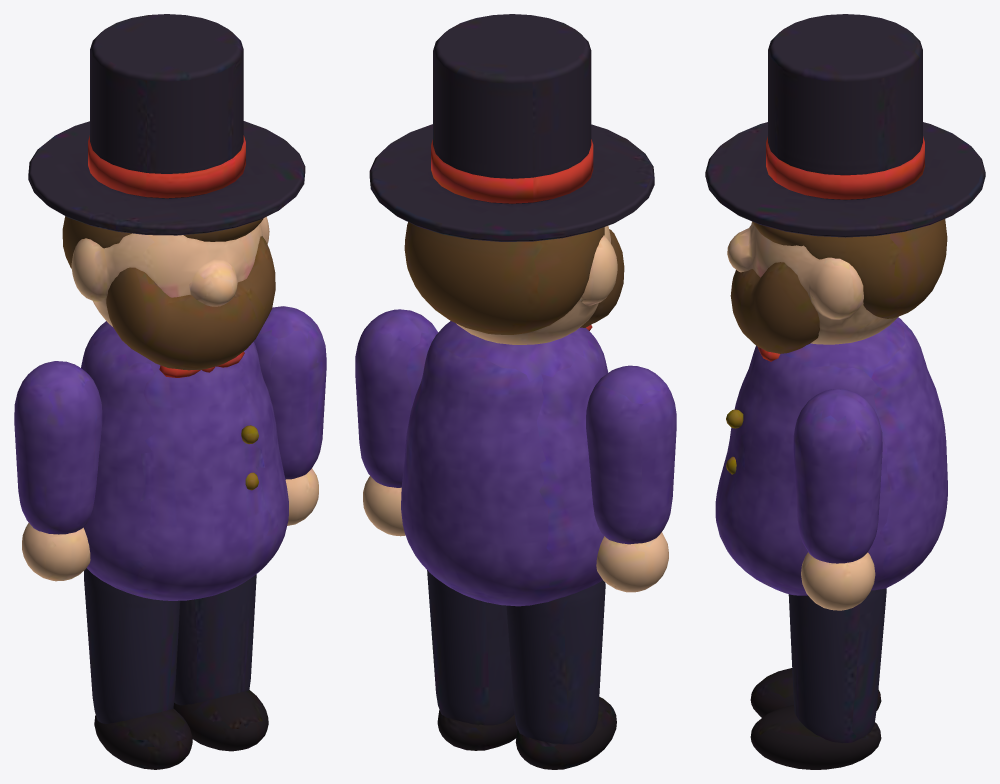
The model's file is villager_bramble.glb.
3 views of the same model, side by side, from view 1: azimuth 30°, elevation 25°; view 2: azimuth 150°, elevation 25°; view 3: azimuth 270°, elevation 25° (orthographic). The views are drawn at different scales.
Parts seen in each view (by area): view 1: head, body, arm0, leg0, leg1, arm1; view 2: head, body, arm0, leg0, leg1, arm1; view 3: head, body, arm1, leg1, leg0.
Part boxes in pixels (bbox=[...]): head: bbox=[28, 14, 305, 370]; body: bbox=[81, 321, 288, 600]; arm0: bbox=[14, 361, 102, 581]; leg0: bbox=[84, 568, 192, 769]; leg1: bbox=[173, 574, 268, 751]; arm1: bbox=[253, 306, 326, 525]; head: bbox=[369, 14, 654, 344]; body: bbox=[401, 321, 608, 606]; arm0: bbox=[586, 365, 676, 592]; leg0: bbox=[506, 580, 616, 769]; leg1: bbox=[427, 570, 517, 750]; arm1: bbox=[355, 309, 438, 536]; head: bbox=[705, 14, 985, 353]; body: bbox=[715, 317, 947, 595]; arm1: bbox=[793, 389, 882, 610]; leg1: bbox=[750, 588, 886, 769]; leg0: bbox=[750, 668, 881, 717].
Bounding box in the file's own units: 0.475 × 1.05 × 0.38.
1 material, 1 textured.
